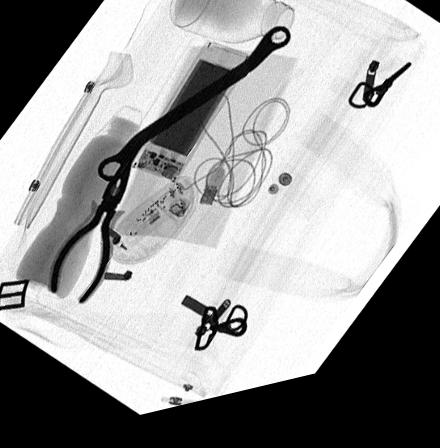Pliers: (48, 157, 133, 308)
Powerbank: (134, 52, 251, 189)
Wrench: (98, 37, 292, 187)
